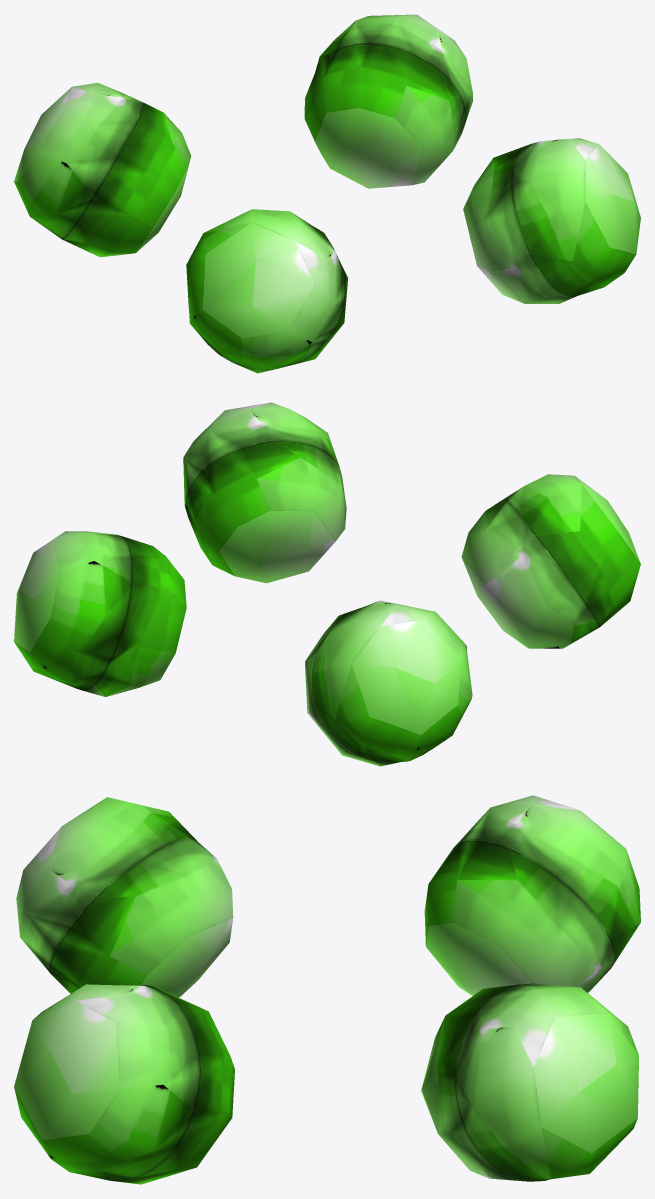
File: led_on.glb
The picture shows the model from 3 angles, top to bottom: view 1: azimuth 30°, elevation 25°; view 2: azimuth 150°, elevation 25°; view 3: azimuth 270°, elevation 25°; orthographic projection. The views are drawn at different scales.
Parts seen in each view (by area): view 1: Cube.005; view 2: Cube.005; view 3: Cube.005.
Part boxes in pixels (x1,y1,x2,y2): Cube.005: [14, 14, 640, 373]; Cube.005: [14, 402, 640, 766]; Cube.005: [14, 795, 640, 1184].
Size of the model in its own units: 1.55 by 0.5348 by 1.52.
Materials: 1 (1 with a texture image).
